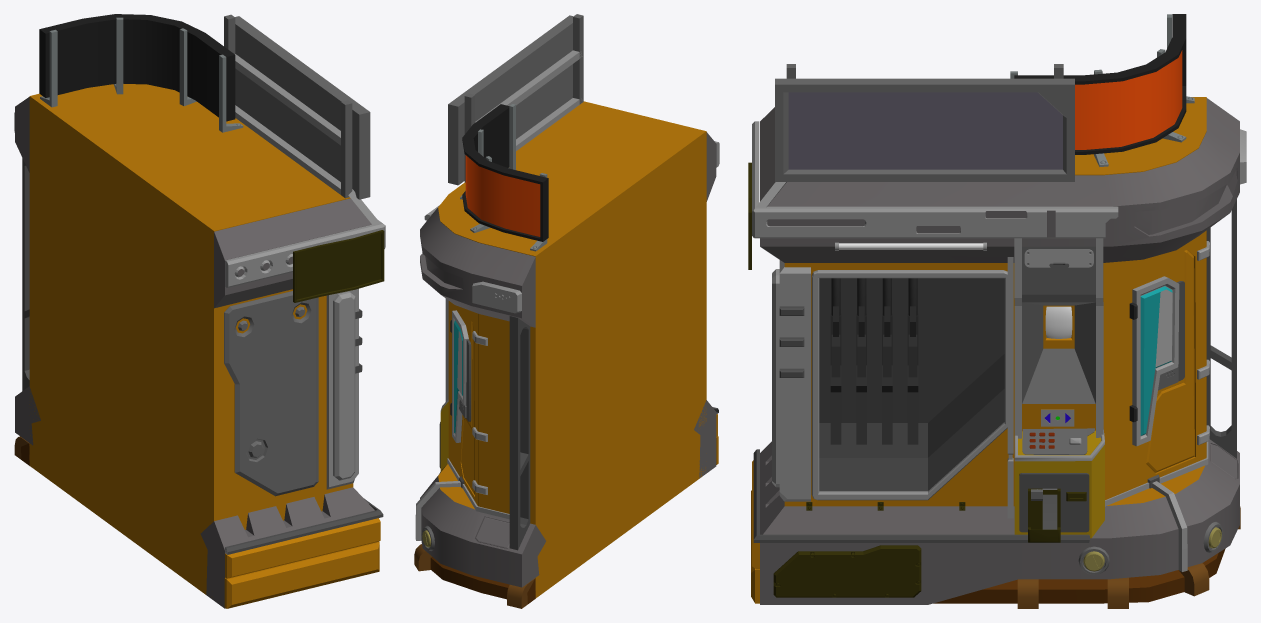
Rendered from HW_XYZSCHOOL_DETALIZACIYA_1.fbx.
3 renders of one model, left to right at view 1: azimuth 30°, elevation 25°; view 2: azimuth 150°, elevation 25°; view 3: azimuth 270°, elevation 25°, orthographic. The views are drawn at different scales.
Parts seen in each view (by area): view 1: Куб.023, QBlock.029, Куб.004, Куб.003, Куб.001, QBlock.034, Куб.002, QBlock.036, QBlock.027, QBlock.021, QBlock.015, QBlock.001 (+5 smaller); view 2: Куб.023, Куб.002, Куб.004, Куб.001, Куб.003, Куб.005, Куб.024, Куб.007, Куб.009, Куб.017, Куб.023.Slice, Куб.008 (+9 smaller); view 3: Куб.023, Куб.003, Куб.002, Куб.001, QBlock.001, Куб.004, QBlock.034, Куб.025, QBlock.026, Куб.011, Куб.023.Slice, Куб.024 (+23 smaller).
Part boxes in pixels (x1,y1,x2,y2): Куб.023: [29, 84, 353, 594]; QBlock.029: [224, 291, 318, 496]; Куб.004: [39, 14, 235, 121]; Куб.003: [235, 16, 370, 199]; Куб.001: [15, 97, 371, 308]; QBlock.034: [326, 288, 362, 489]; Куб.002: [15, 386, 374, 608]; QBlock.036: [293, 230, 384, 302]; QBlock.027: [224, 541, 379, 608]; QBlock.021: [225, 518, 380, 578]; QBlock.015: [40, 17, 243, 132]; QBlock.001: [225, 219, 385, 287]; Куб.023: [438, 101, 706, 598]; Куб.002: [420, 400, 716, 587]; Куб.004: [462, 104, 548, 241]; Куб.001: [420, 132, 716, 327]; Куб.003: [448, 15, 572, 185]; Куб.005: [509, 316, 530, 550]; Куб.024: [430, 557, 535, 603]; Куб.007: [464, 14, 583, 182]; Куб.009: [472, 281, 521, 313]; Куб.017: [475, 50, 582, 122]; Куб.023.Slice: [461, 323, 474, 494]; Куб.008: [452, 310, 468, 442]; Куб.023: [784, 97, 1206, 506]; Куб.003: [775, 78, 1074, 181]; Куб.002: [760, 439, 1239, 604]; Куб.001: [760, 98, 1239, 262]; QBlock.001: [752, 121, 1118, 238]; Куб.004: [1014, 14, 1186, 154]; QBlock.034: [772, 260, 810, 501]; Куб.025: [830, 278, 918, 444]; QBlock.026: [773, 545, 921, 597]; Куб.011: [811, 270, 1007, 500]; Куб.023.Slice: [1146, 250, 1194, 472]; Куб.024: [933, 548, 1225, 603].
Bounding box in the file's own units: 292 × 788 × 671.
